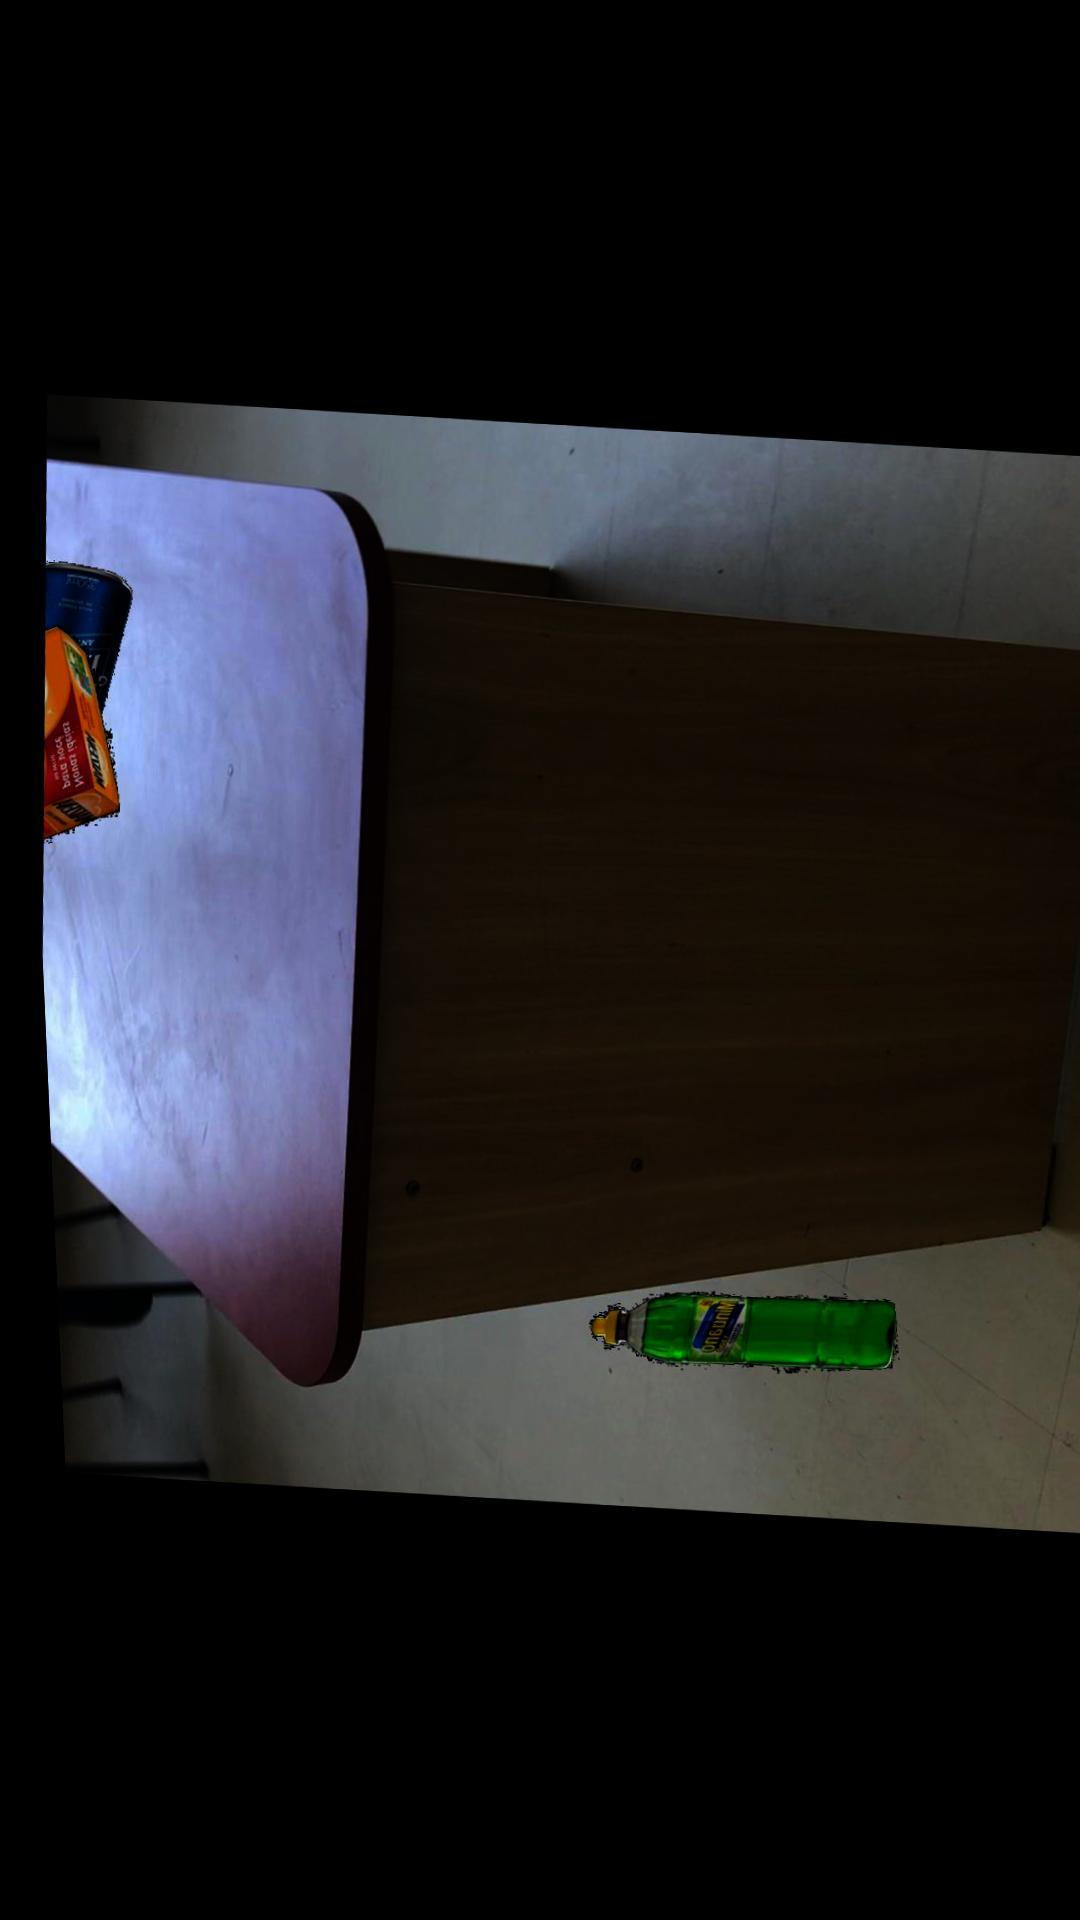cleaner: (575, 1290, 882, 1373)
tonic: (38, 562, 125, 713)
